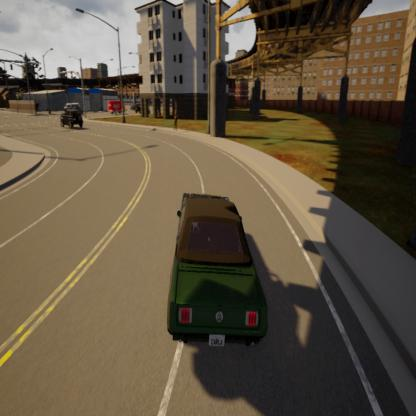Cars: (159, 174, 278, 370), (56, 90, 94, 139)
Pedestrian: (169, 103, 182, 140)
